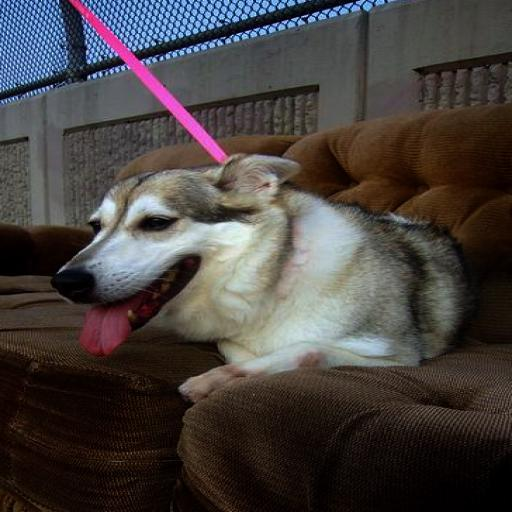dog_face: (60, 161, 290, 326)
